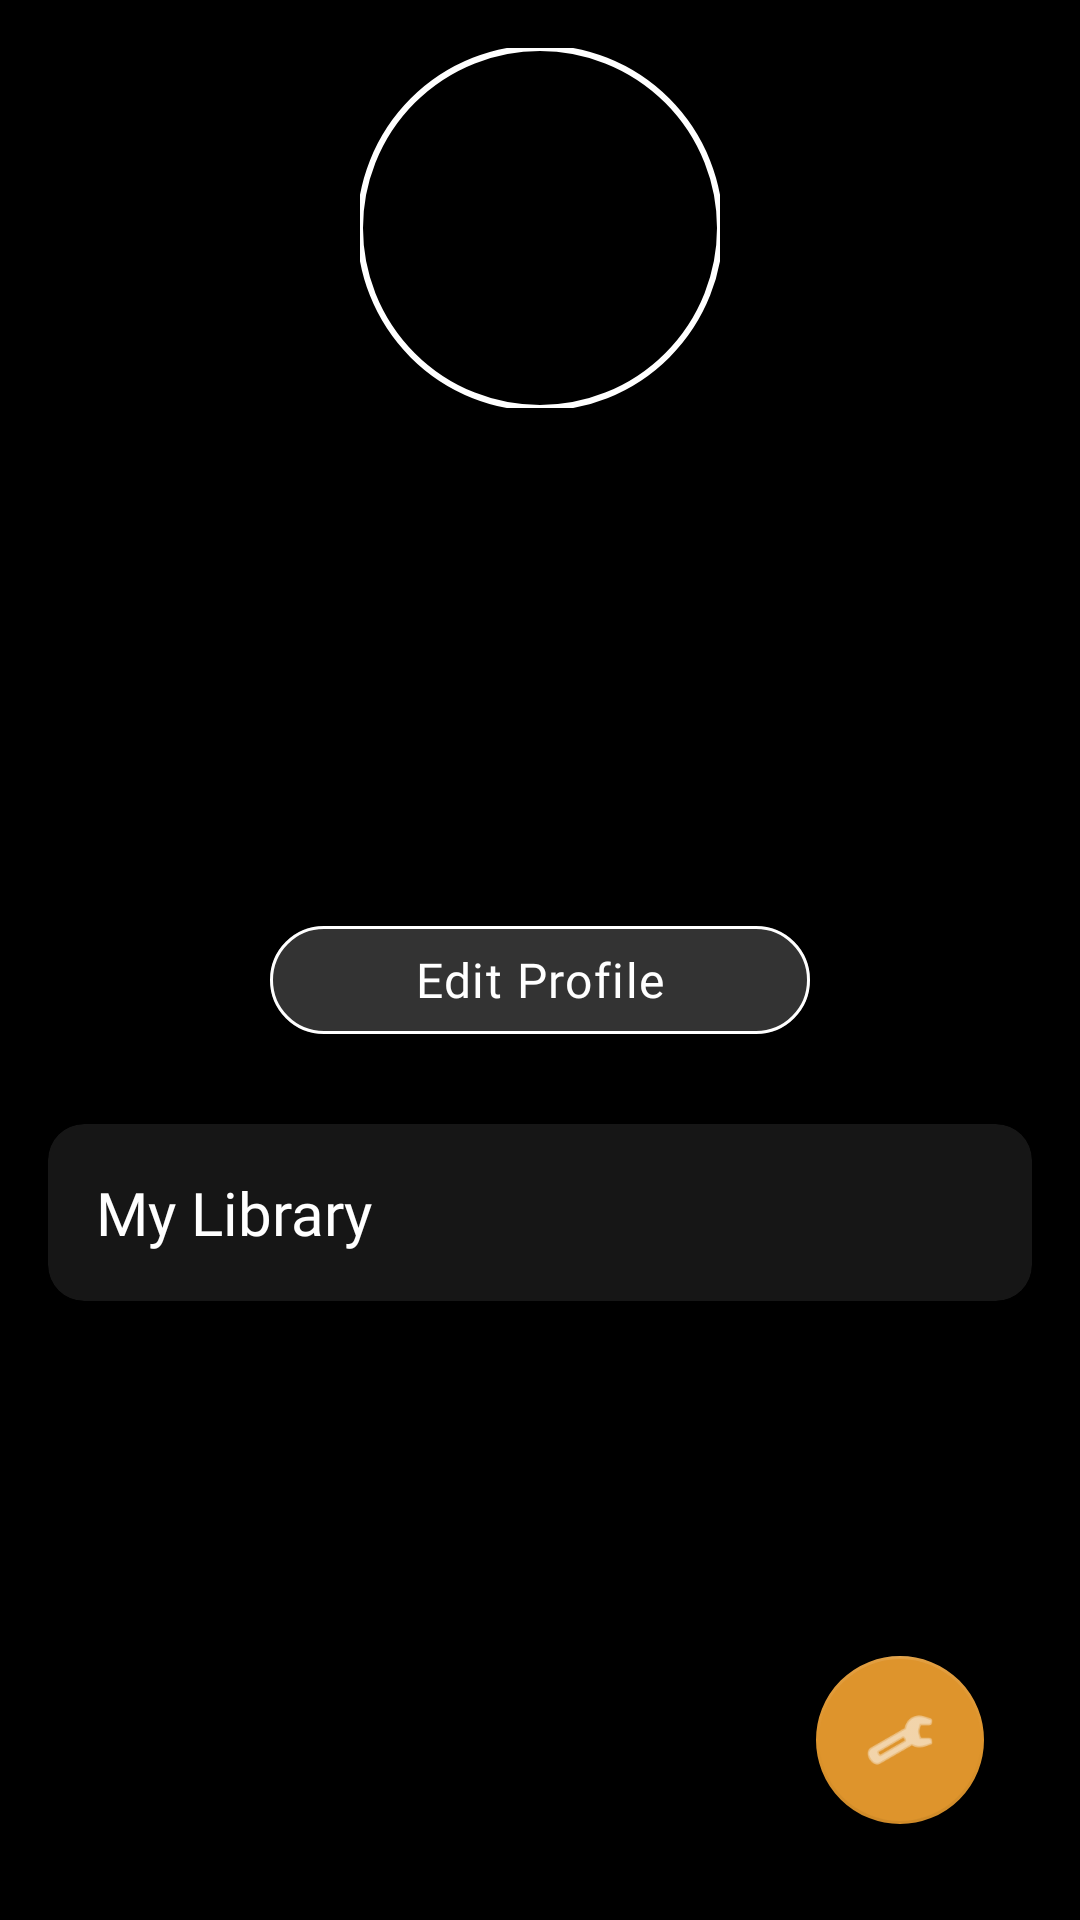

Screen size 1080 × 1920. Icon name, then its center in pixels as [x,y]:
Settings: [900,1740]
